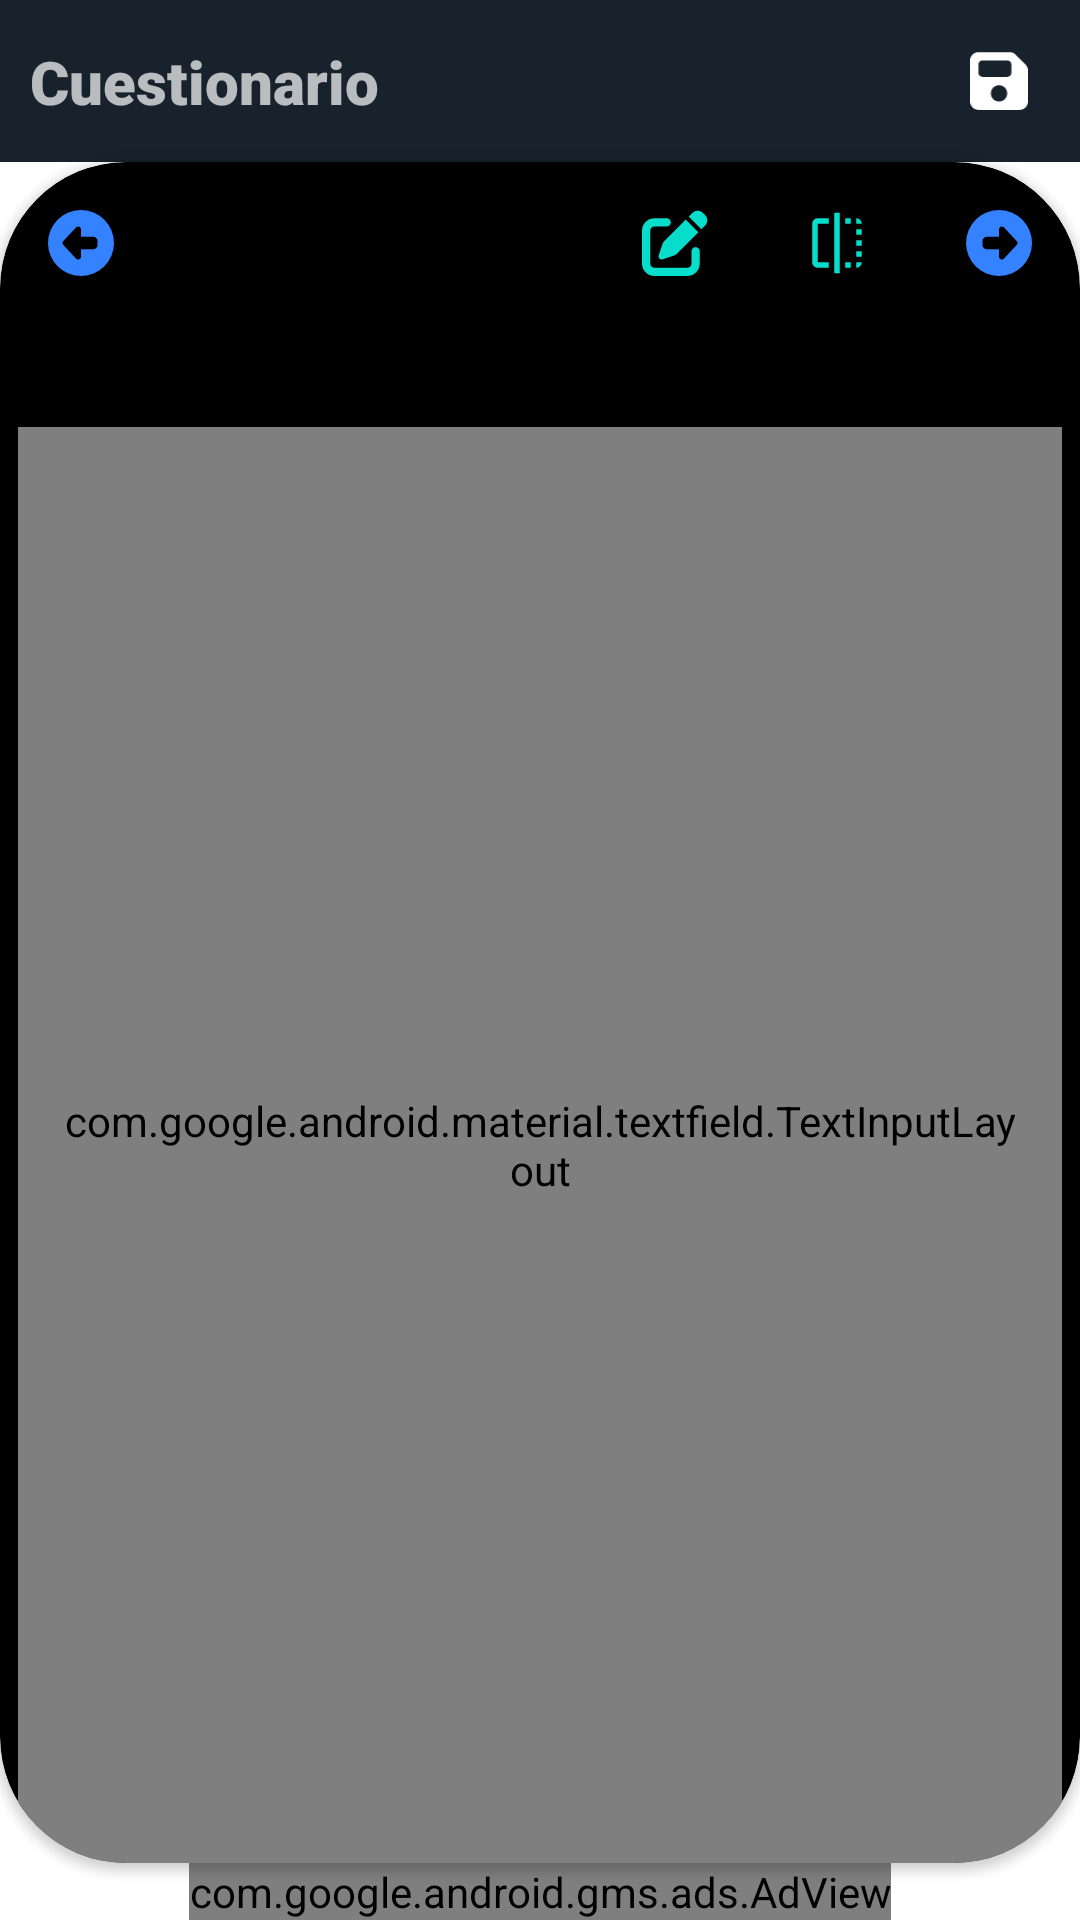

Point at icon controls on the screen. Image size 1080w x 1920h, points as (x=x, y=y).
edit: (x=675, y=243)
save: (x=999, y=81)
